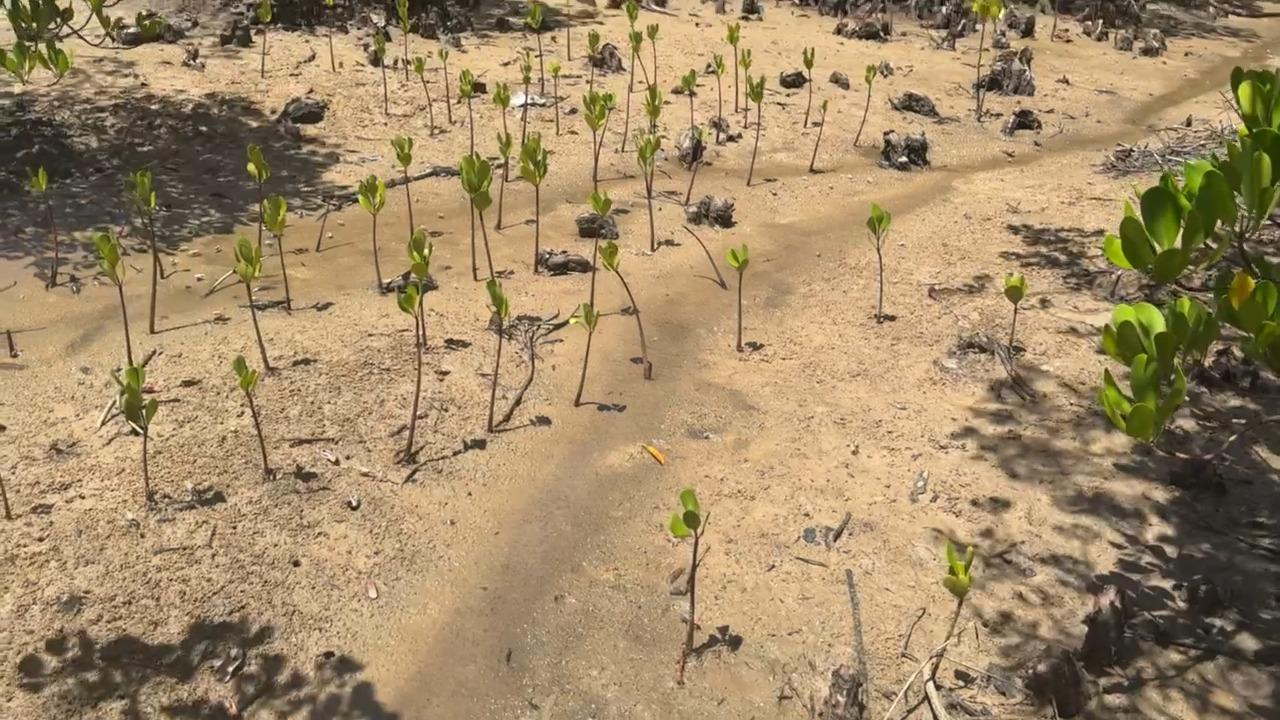Tree: (111, 364, 159, 500), (91, 228, 135, 364), (933, 543, 973, 676), (396, 282, 422, 456), (236, 235, 269, 370), (234, 354, 269, 471), (669, 486, 700, 606), (26, 166, 57, 284), (357, 173, 385, 289), (407, 226, 433, 347), (0, 471, 11, 517)
